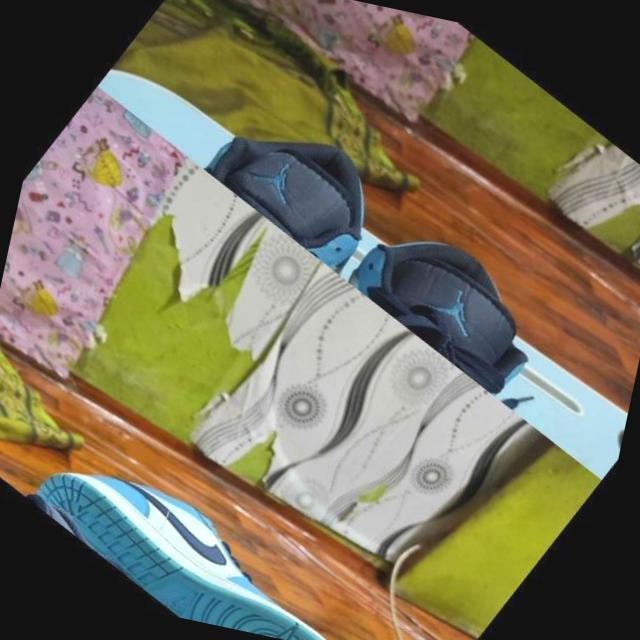nike_fake_jordan: (12, 409, 458, 640)
